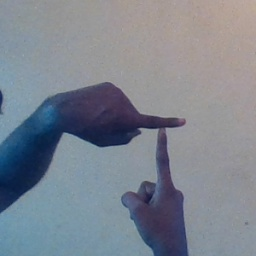T: (106, 92, 205, 205)
